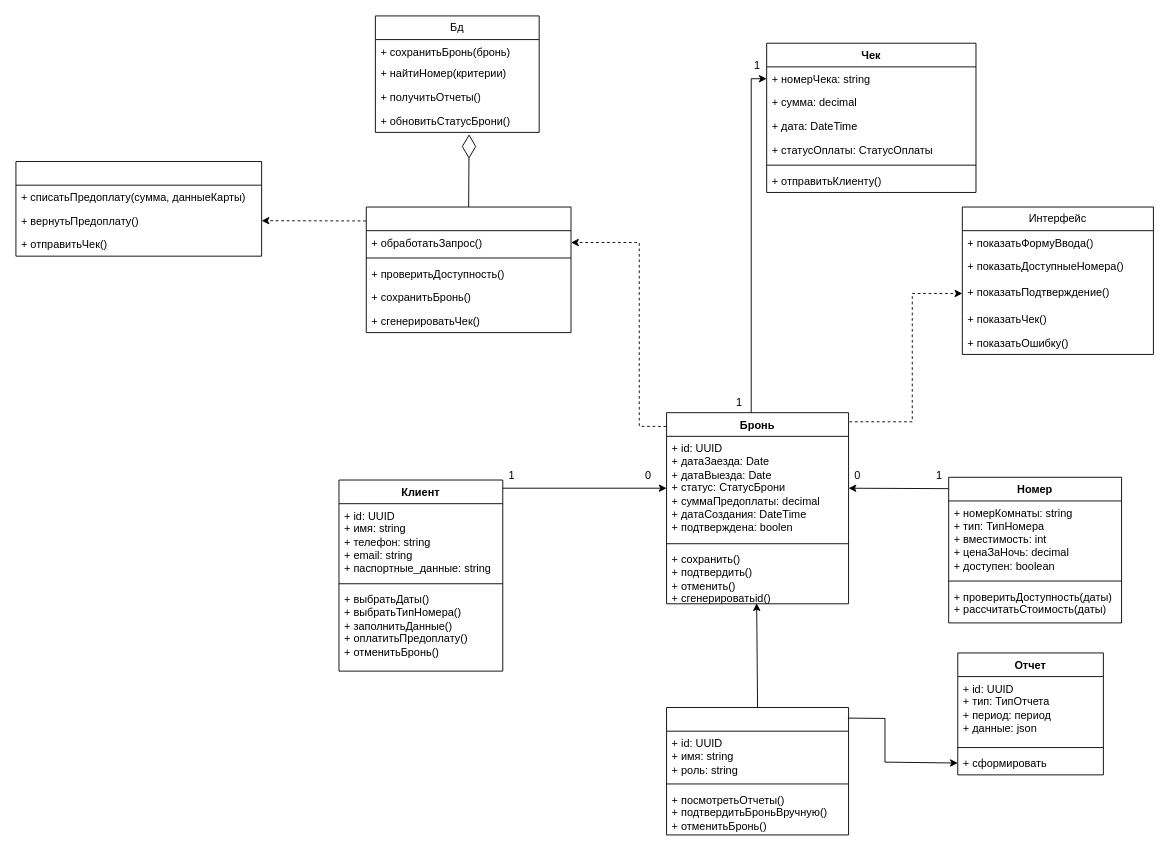
Image size: 1169x854. Some labels were removed from this diagram. Here are the shapes that lost their labels. From the top down, the box of each, then its label:
(15, 161, 262, 256): ПлатежныйШлюз
(365, 206, 571, 333): ИнформационнаяСистема
(666, 707, 849, 835): Персонал
